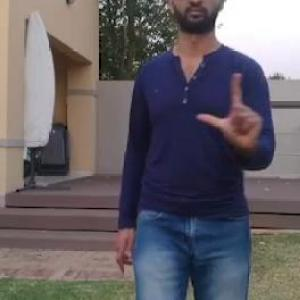land_hand: (196, 65, 272, 153)
